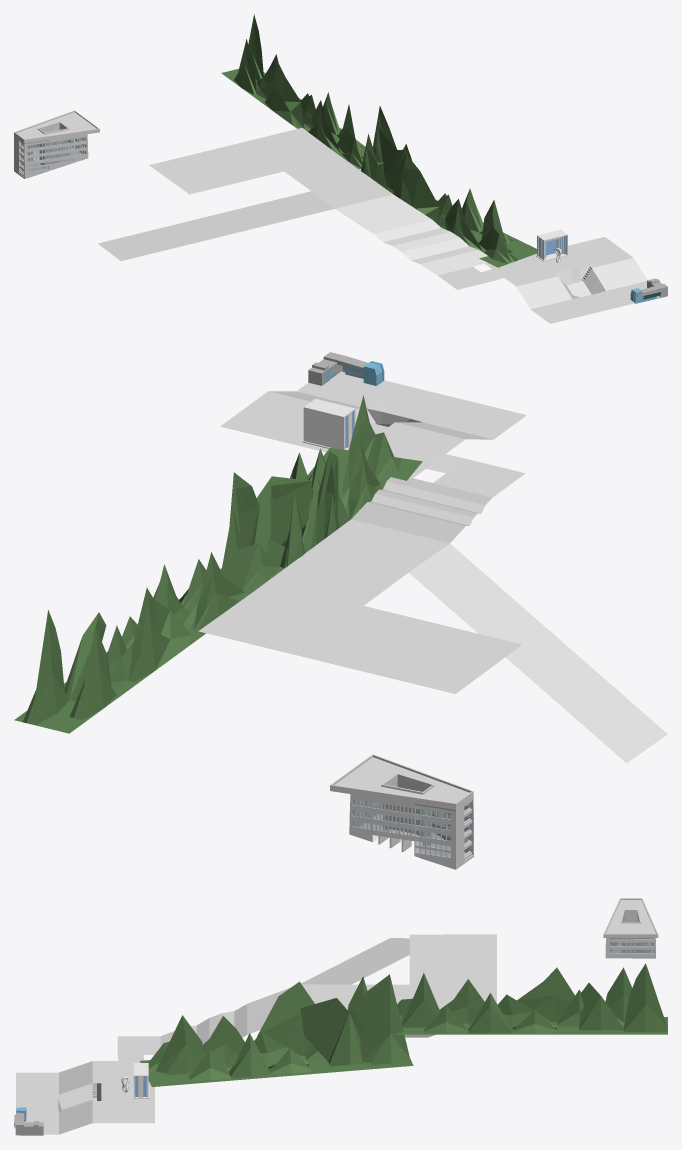
Rendered from map.glb.
3 views of the same model, one above another, from view 1: azimuth 30°, elevation 25°; view 2: azimuth 150°, elevation 25°; view 3: azimuth 270°, elevation 25° (orthographic). The views are drawn at different scales.
Visible parts, largest first — view 1: Plane, mountain.001, mountain, ai, Cube.001, Cube; view 2: Plane, mountain, mountain.001, ai, Cube.001, Cube; view 3: Plane, mountain.001, mountain, ai, Cube, Cube.001.
Part boxes in pixels (box(x1,y1,x2,y2)): Plane: box(98, 128, 659, 323); mountain.001: box(360, 106, 536, 267); mountain: box(221, 14, 383, 169); ai: box(14, 110, 99, 178); Cube.001: box(536, 229, 568, 261); Cube: box(630, 278, 667, 303); Plane: box(198, 371, 667, 763); mountain: box(14, 508, 284, 733); mountain.001: box(229, 395, 422, 567); ai: box(330, 754, 473, 869); Cube.001: box(302, 399, 355, 450); Cube: box(308, 352, 384, 385); Plane: box(16, 934, 496, 1134); mountain.001: box(140, 974, 413, 1086); mountain: box(394, 963, 667, 1034); ai: box(603, 898, 658, 958); Cube: box(14, 1107, 43, 1135); Cube.001: box(133, 1063, 149, 1098).
Size of the model in its own units: 213 by 59.29 by 296.
